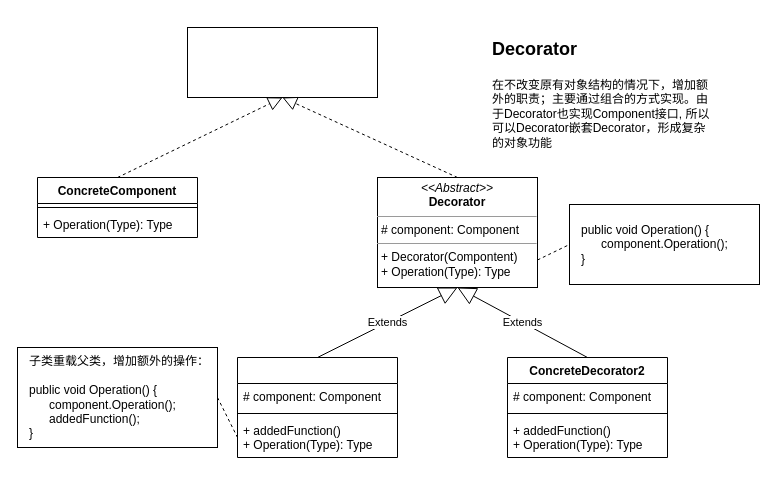
The diagram is 777 pixels wide and 477 high, and some of its shapes have lost their labels. The shapes that lost their labels are listed below. From the top down, each one's box as (x1, y1, x2, y2) in pixels, then its label:
(186, 26, 378, 98): <<Interface>> Component + Operation(Type): Type
(236, 356, 398, 458): ConcreteDecorator1
